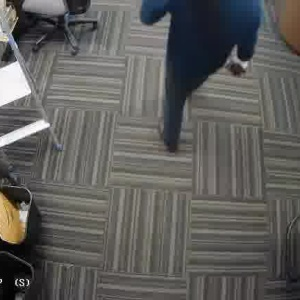person: (158, 0, 259, 149)
